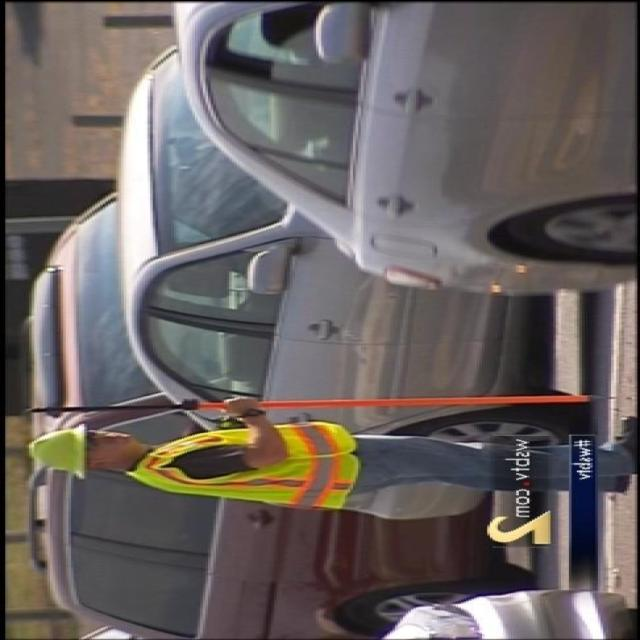helmet: (17, 419, 94, 482)
